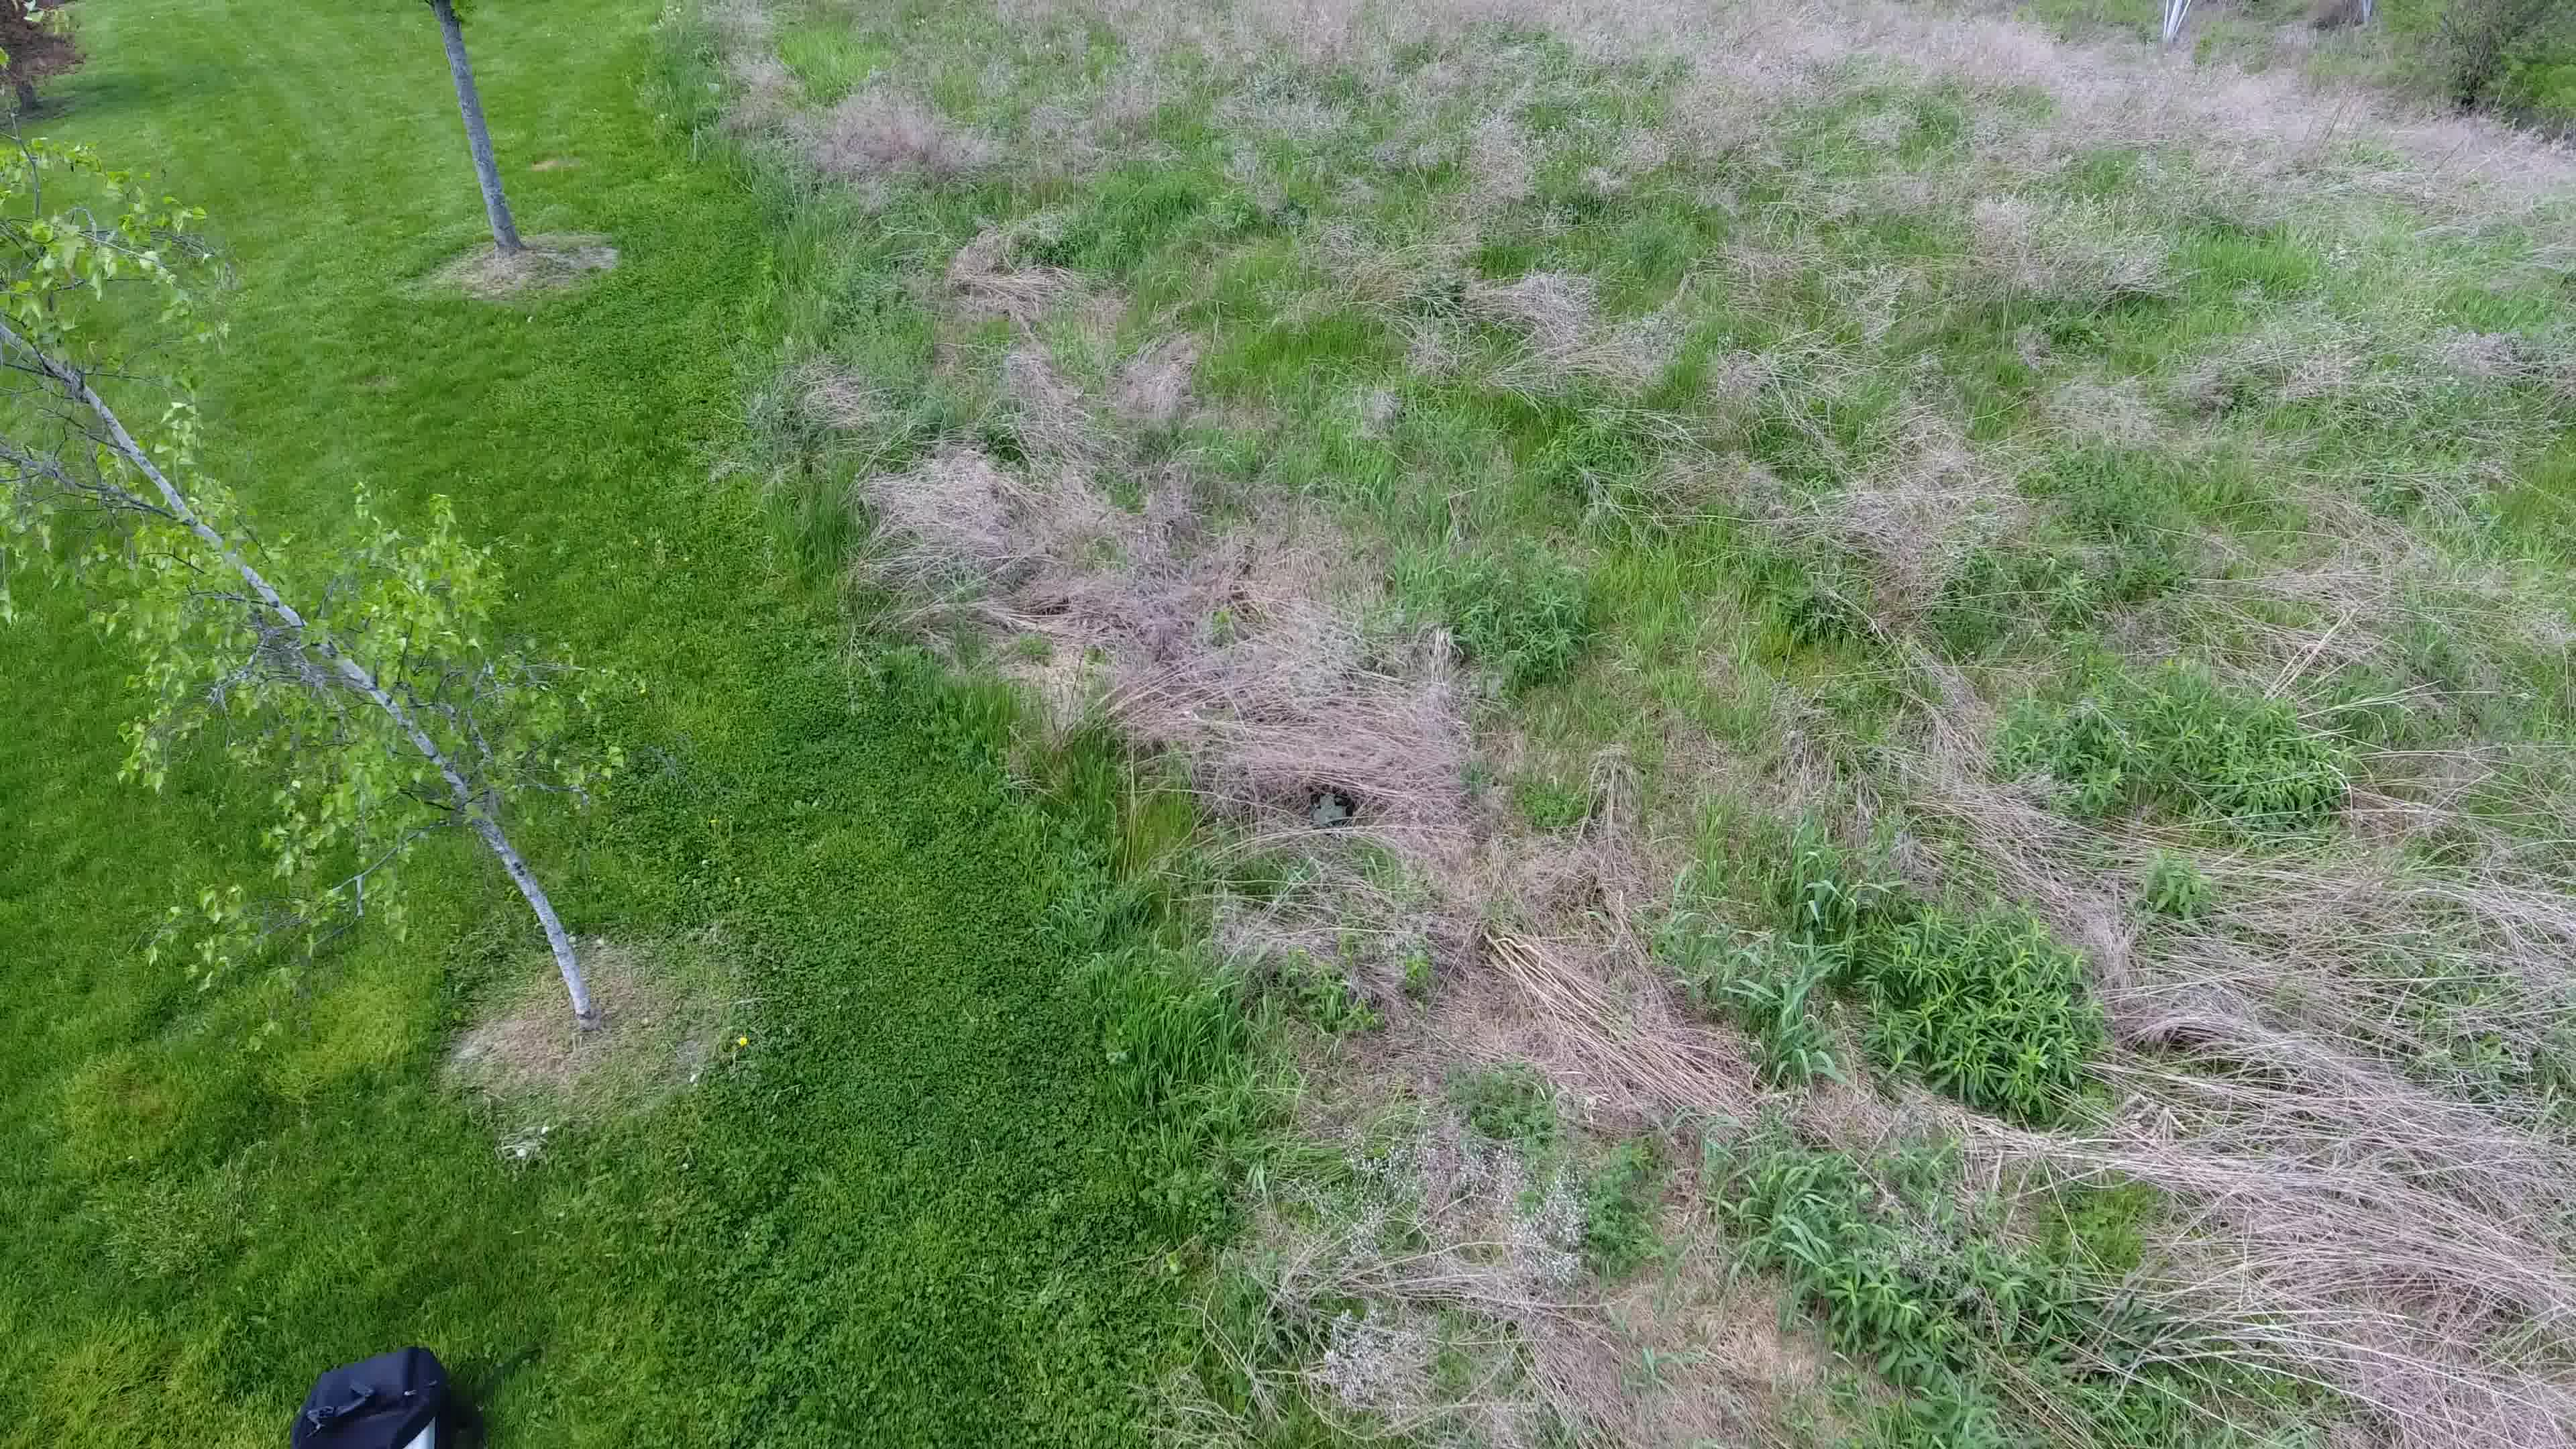transporter9: (1307, 791, 1350, 828)
